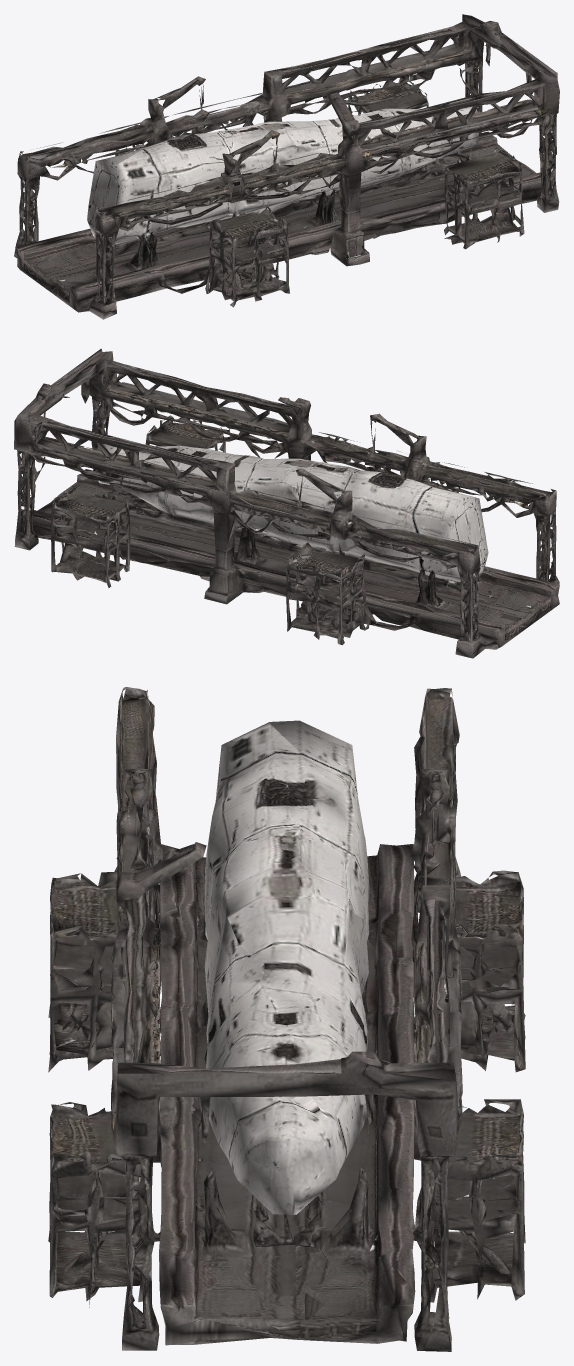
Rendered from repairYard.glb.
3 views of the same model, one above another, from view 1: azimuth 30°, elevation 25°; view 2: azimuth 150°, elevation 25°; view 3: azimuth 270°, elevation 25° (orthographic). The views are drawn at different scales.
Size of the model in its own units: 1.9 by 0.5908 by 0.8287.
Materials: 1 (1 with a texture image).
